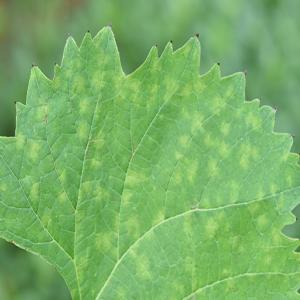Folha: (0, 22, 299, 299)
Fungo: (169, 149, 200, 190), (31, 62, 48, 124), (93, 44, 112, 96), (74, 120, 105, 150), (130, 250, 155, 287), (129, 79, 159, 109), (236, 140, 261, 174), (16, 133, 41, 163), (204, 212, 228, 242), (79, 181, 110, 204), (213, 82, 235, 113), (120, 167, 147, 191), (74, 251, 91, 289), (180, 74, 205, 99), (262, 251, 283, 280), (54, 166, 70, 202), (220, 262, 238, 293), (249, 181, 266, 213), (78, 95, 101, 118), (124, 215, 140, 248), (180, 211, 197, 242), (184, 257, 201, 287), (36, 204, 51, 236), (245, 110, 264, 132), (27, 180, 40, 212), (96, 229, 114, 252), (190, 111, 204, 140), (205, 157, 220, 183), (225, 180, 240, 205), (255, 212, 271, 234), (72, 72, 86, 96), (149, 208, 165, 229), (89, 154, 105, 173), (268, 178, 281, 196), (220, 120, 233, 136), (280, 147, 290, 165), (285, 174, 294, 189), (190, 199, 198, 210), (291, 132, 295, 141), (293, 216, 299, 222), (272, 106, 277, 113), (14, 99, 18, 107), (195, 32, 199, 38), (243, 69, 247, 75), (108, 22, 112, 27), (67, 32, 71, 37), (45, 113, 47, 123), (32, 62, 35, 68), (216, 62, 220, 66), (154, 43, 158, 46), (170, 39, 172, 43), (86, 30, 90, 32)
